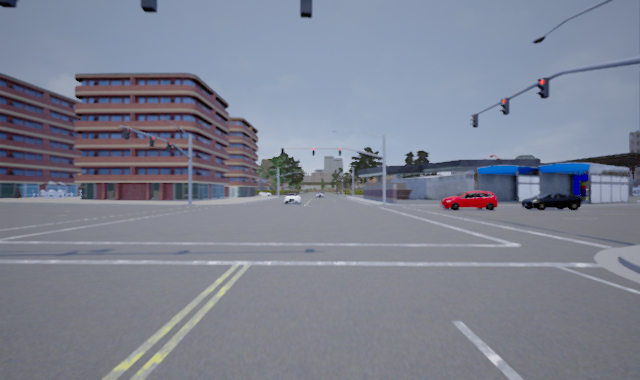traffic_light: (536, 75, 550, 99), (500, 95, 510, 116), (469, 111, 479, 129), (121, 125, 131, 139), (149, 134, 155, 149), (309, 145, 317, 156), (337, 146, 343, 159), (168, 139, 173, 153)
vehicle: (441, 190, 497, 210), (520, 192, 582, 209), (283, 192, 301, 205)
